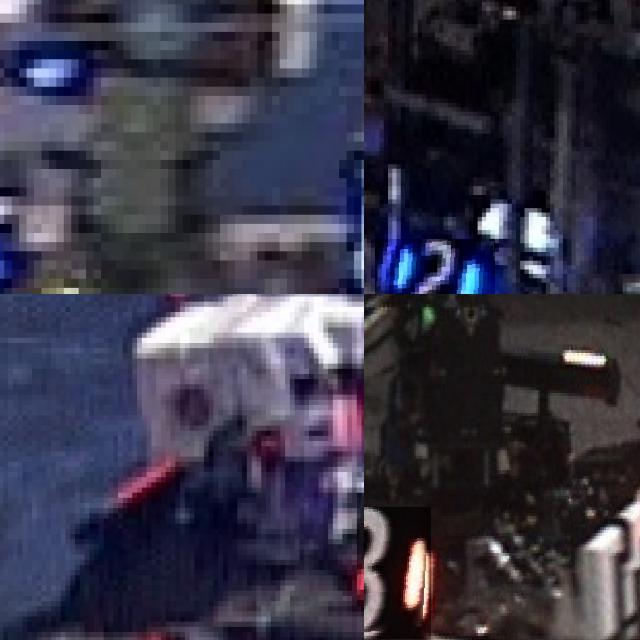B2: (375, 238, 494, 294)
R3: (364, 507, 432, 638)
